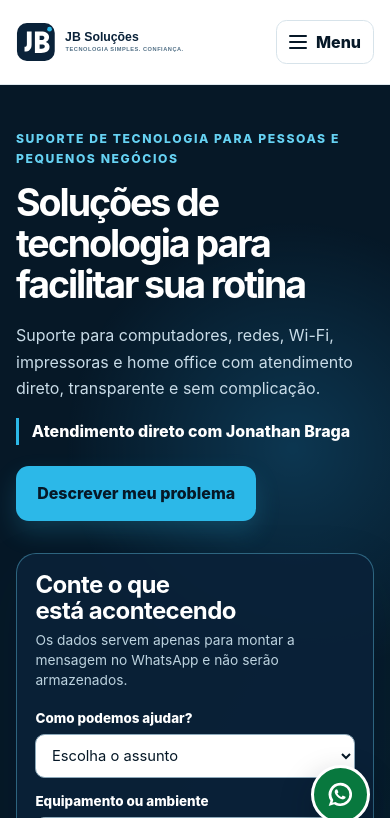
Test: App foundation › provides an accessible mobile navigation toggle
Click the button "Menu".
click(325, 42)  # box [276,20,374,64]
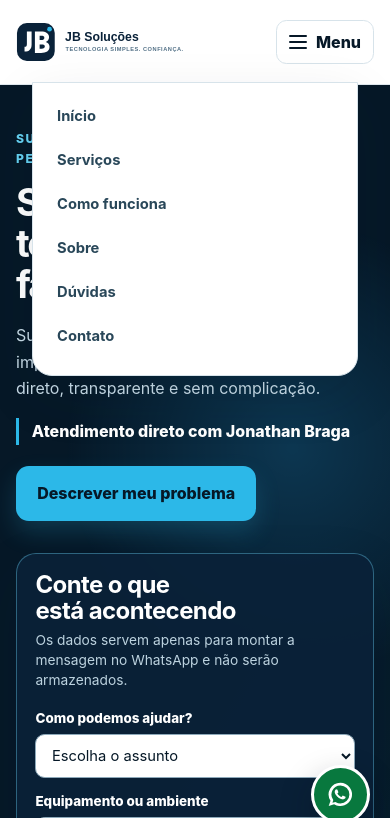
Now the navigation bar named "Navegação principal" is shown, box [32,82,358,376]
